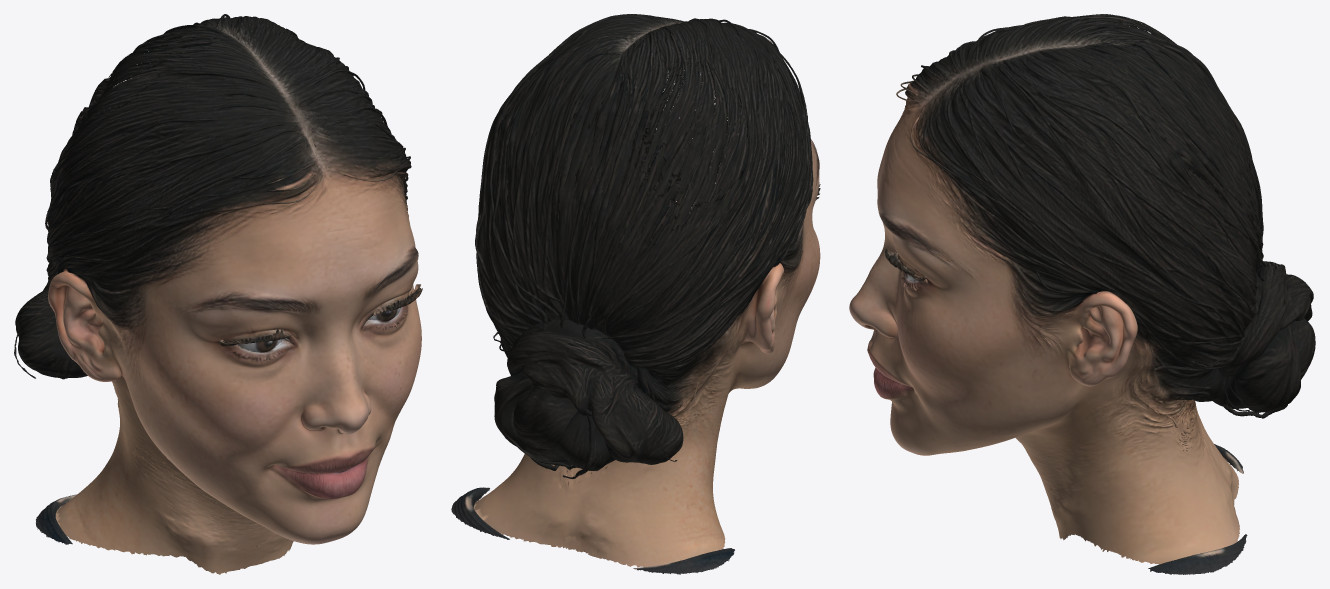
Rendered from skin_f.glb.
3 renders of one model, left to right at view 1: azimuth 30°, elevation 25°; view 2: azimuth 150°, elevation 25°; view 3: azimuth 270°, elevation 25°, orthographic. The views are drawn at different scales.
Parts seen in each view (by area): view 1: Skin; view 2: Skin; view 3: Skin.
Boxes of the visible parts, x1=… form: Skin: x1=14, y1=14, x2=422, y2=574; Skin: x1=451, y1=14, x2=820, y2=574; Skin: x1=849, y1=14, x2=1315, y2=574.
Size of the model in its own units: 0.1721 by 0.2681 by 0.229.
1 material, 1 textured.
